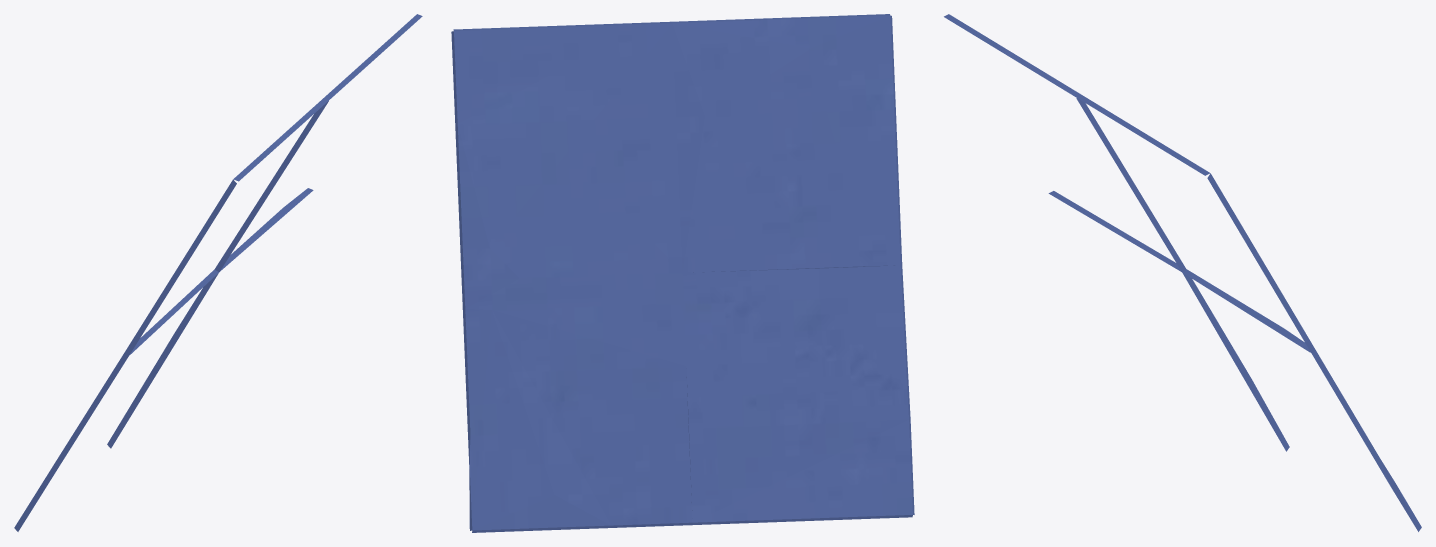
3 renders of one model, left to right at view 1: azimuth 30°, elevation 25°; view 2: azimuth 150°, elevation 25°; view 3: azimuth 270°, elevation 25°, orthographic. The views are drawn at different scales.
Bounding box in the file's own units: 78984 × 69086 × 71451.
Materials: 1 (1 with a texture image).
